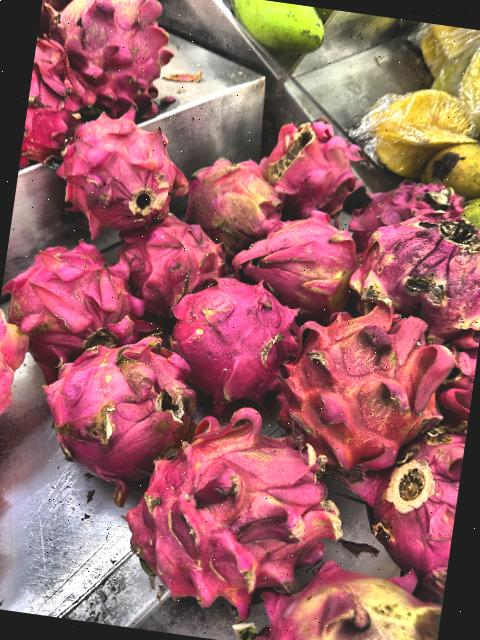buah-naga-belum-matang: (284, 297, 448, 473), (259, 539, 448, 640), (344, 205, 480, 332), (235, 205, 371, 313), (172, 150, 284, 246)
buah-naga-matang: (128, 399, 346, 600), (41, 326, 211, 474), (160, 264, 306, 404), (44, 0, 200, 120), (362, 421, 466, 579), (3, 238, 135, 362), (57, 116, 177, 232), (21, 28, 98, 159), (267, 115, 372, 210), (118, 220, 228, 308), (360, 168, 468, 236)
